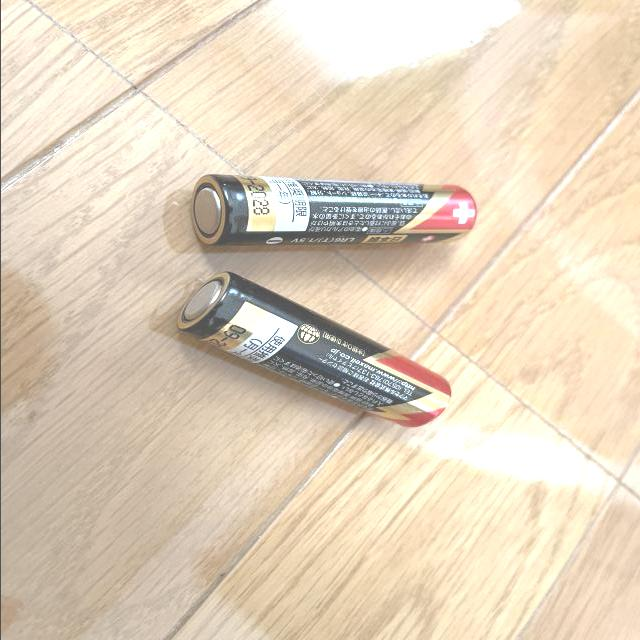AA: (165, 266, 462, 432), (182, 168, 483, 254)
